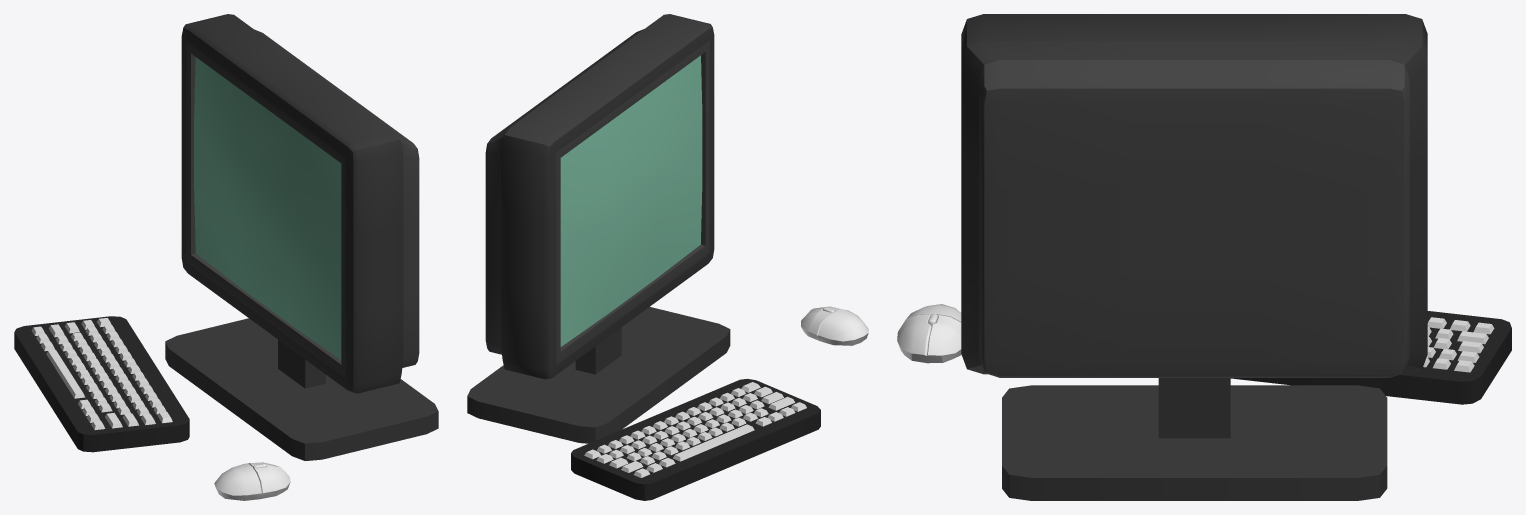
Rendered from OBJ_Computer2.fbx.
3 renders of one model, left to right at view 1: azimuth 30°, elevation 25°; view 2: azimuth 150°, elevation 25°; view 3: azimuth 270°, elevation 25°, orthographic. The views are drawn at different scales.
Parts seen in each view (by area): view 1: Box087, Box105, Box220, Box123; view 2: Box087, Box105, Box220, Box123; view 3: Box087, Box105, Box220.
Boxes of the visible parts, box(x1,y1,x2,y2) form: Box087: box(165, 14, 438, 460); Box105: box(14, 316, 189, 452); Box220: box(214, 462, 290, 500); Box123: box(46, 350, 85, 398); Box087: box(467, 14, 730, 443); Box105: box(571, 378, 820, 500); Box220: box(801, 306, 868, 345); Box123: box(673, 424, 754, 461); Box087: box(961, 14, 1427, 500); Box105: box(1231, 311, 1511, 404); Box220: box(897, 304, 961, 363).
Bounding box in the file's own units: 20.57 × 20.97 × 27.75.
